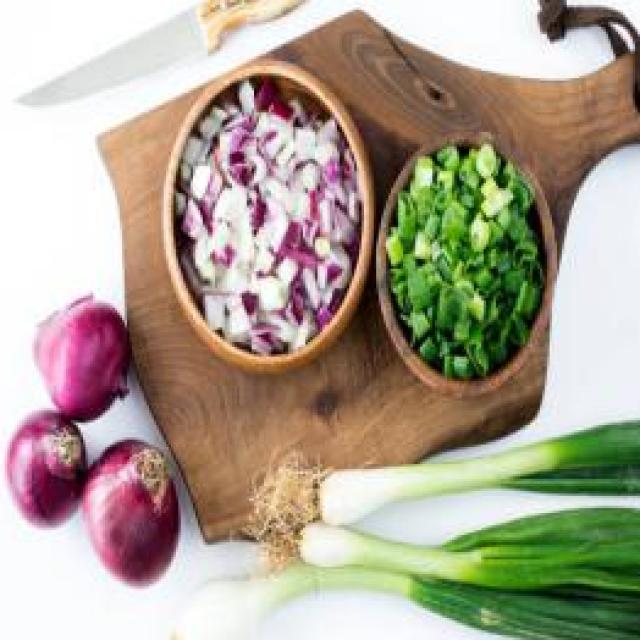knife: (8, 0, 369, 112)
